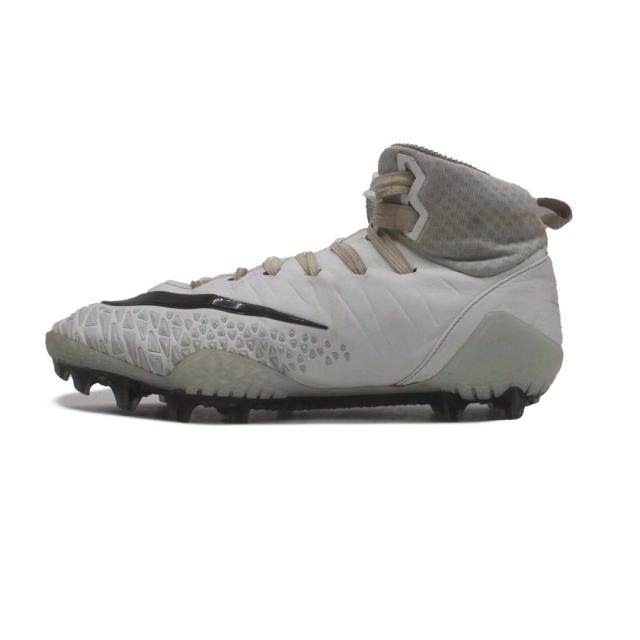heel: (474, 167, 572, 344)
midsole: (48, 308, 561, 425)
uppersole: (47, 149, 500, 385)
